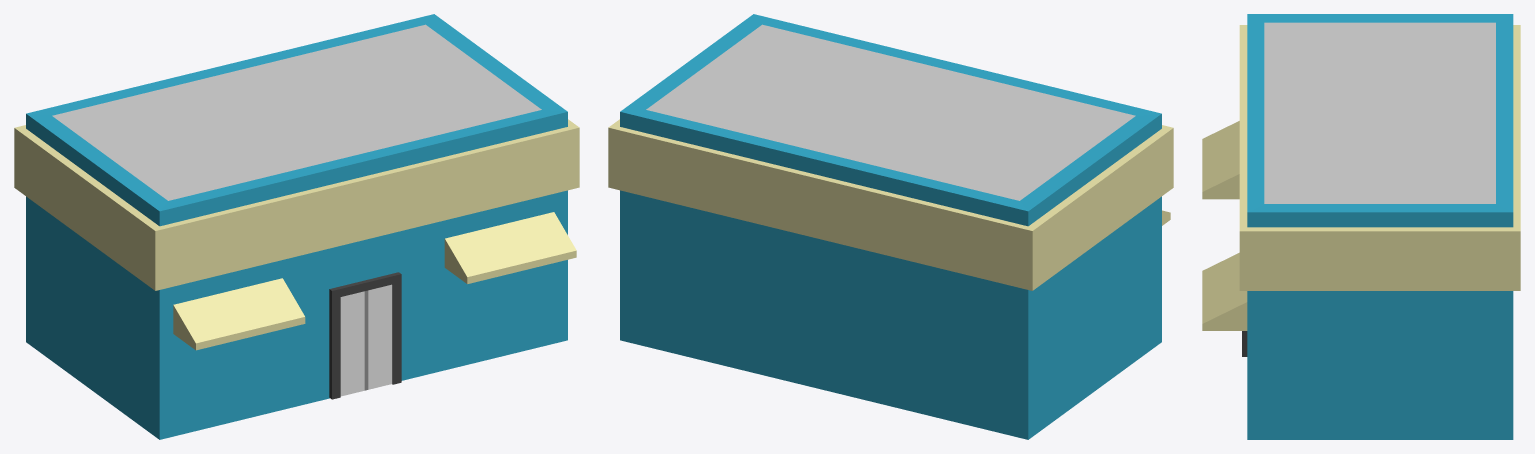
File: Shop_1.FBX
3 renders of one model, left to right at view 1: azimuth 30°, elevation 25°; view 2: azimuth 150°, elevation 25°; view 3: azimuth 270°, elevation 25°, orthographic.
Visible parts, largest first — view 1: Shop 01; view 2: Shop 01; view 3: Shop 01.
Boxes of the visible parts, x1=… form: Shop 01: x1=14, y1=14, x2=579, y2=439; Shop 01: x1=608, y1=14, x2=1173, y2=439; Shop 01: x1=1202, y1=14, x2=1520, y2=439.
Size of the model in its own units: 9.1 by 4.69 by 5.94.
Materials: 1 (1 with a texture image).
